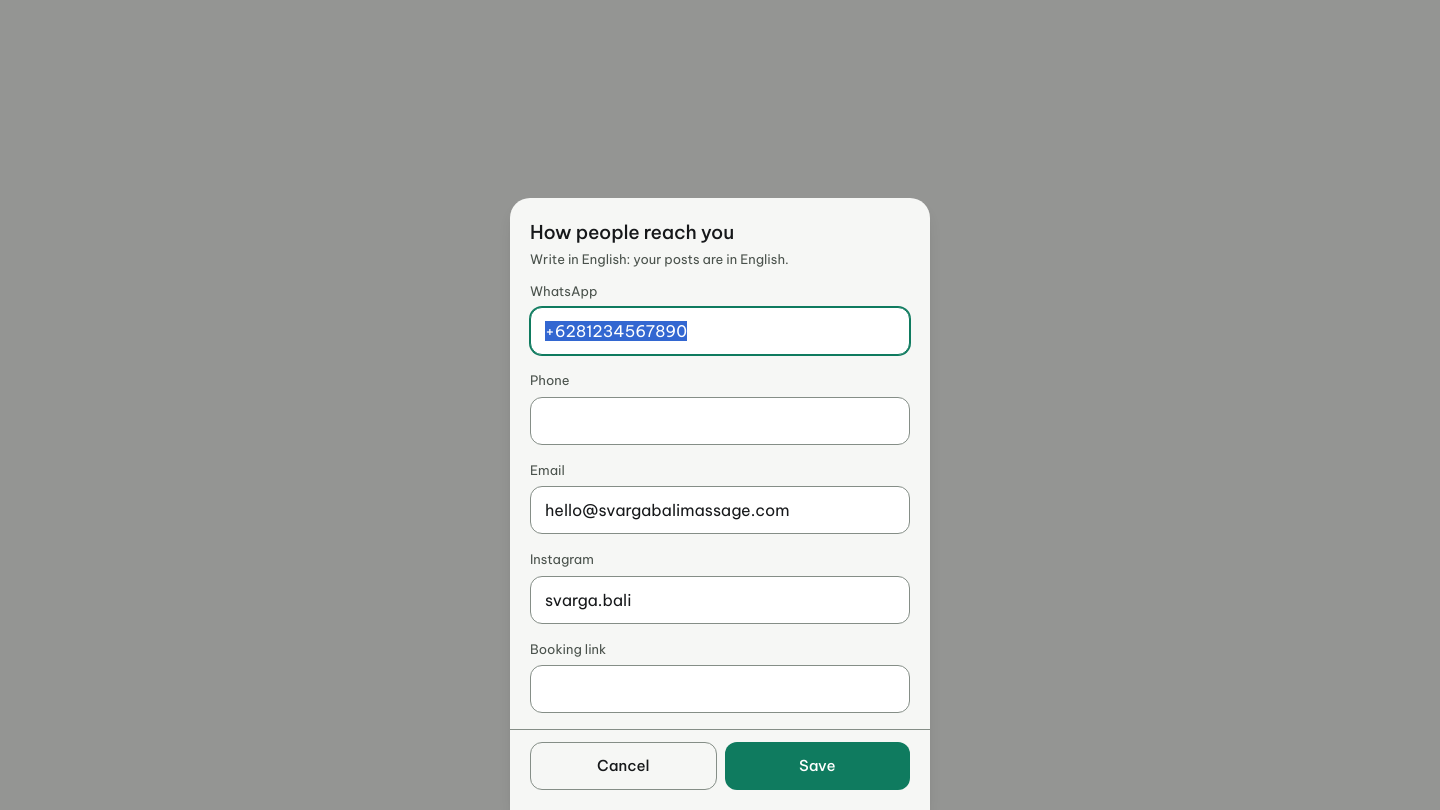
Test: SectionSheet › a number without a country code asks for one
Step 1. Replace the text in the field labelled "WhatsApp" with "0812 3456 7891" → (720, 331), box [530,307,910,355]
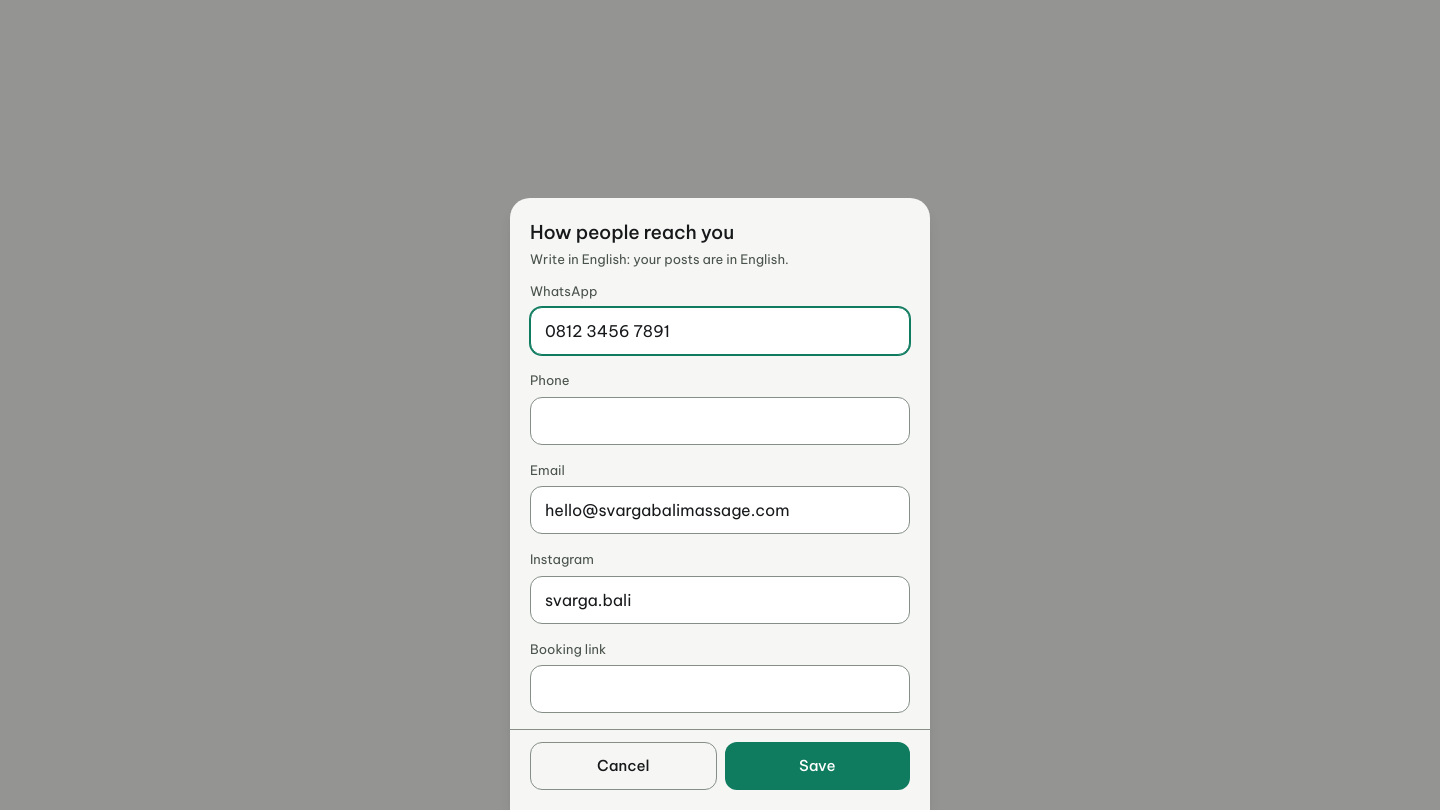
Step 2. Click the button "Save" → (817, 766), box [725,742,910,790]
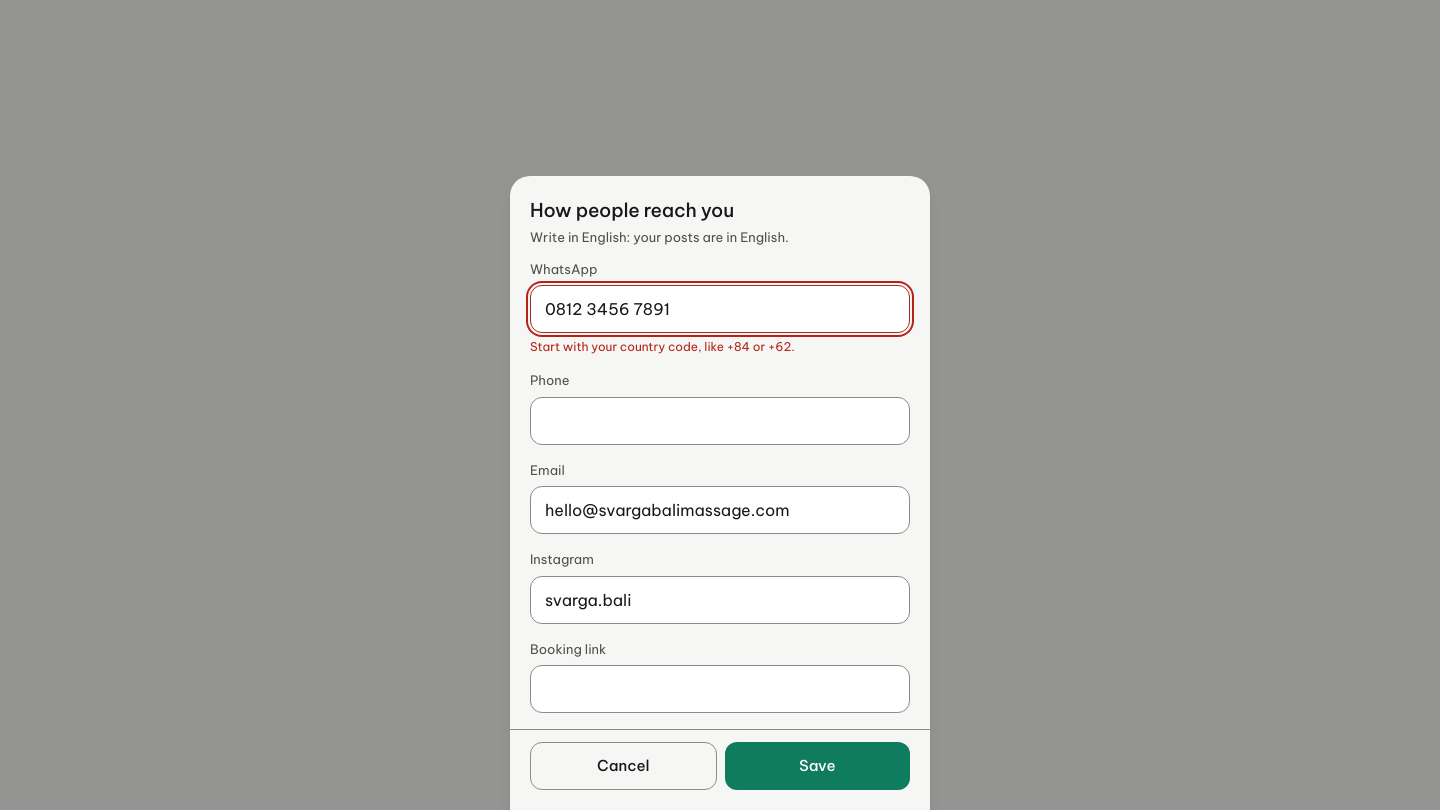
Expected: the text "Start with your country code, like +84 or +62." is shown, [530,339,795,354]
